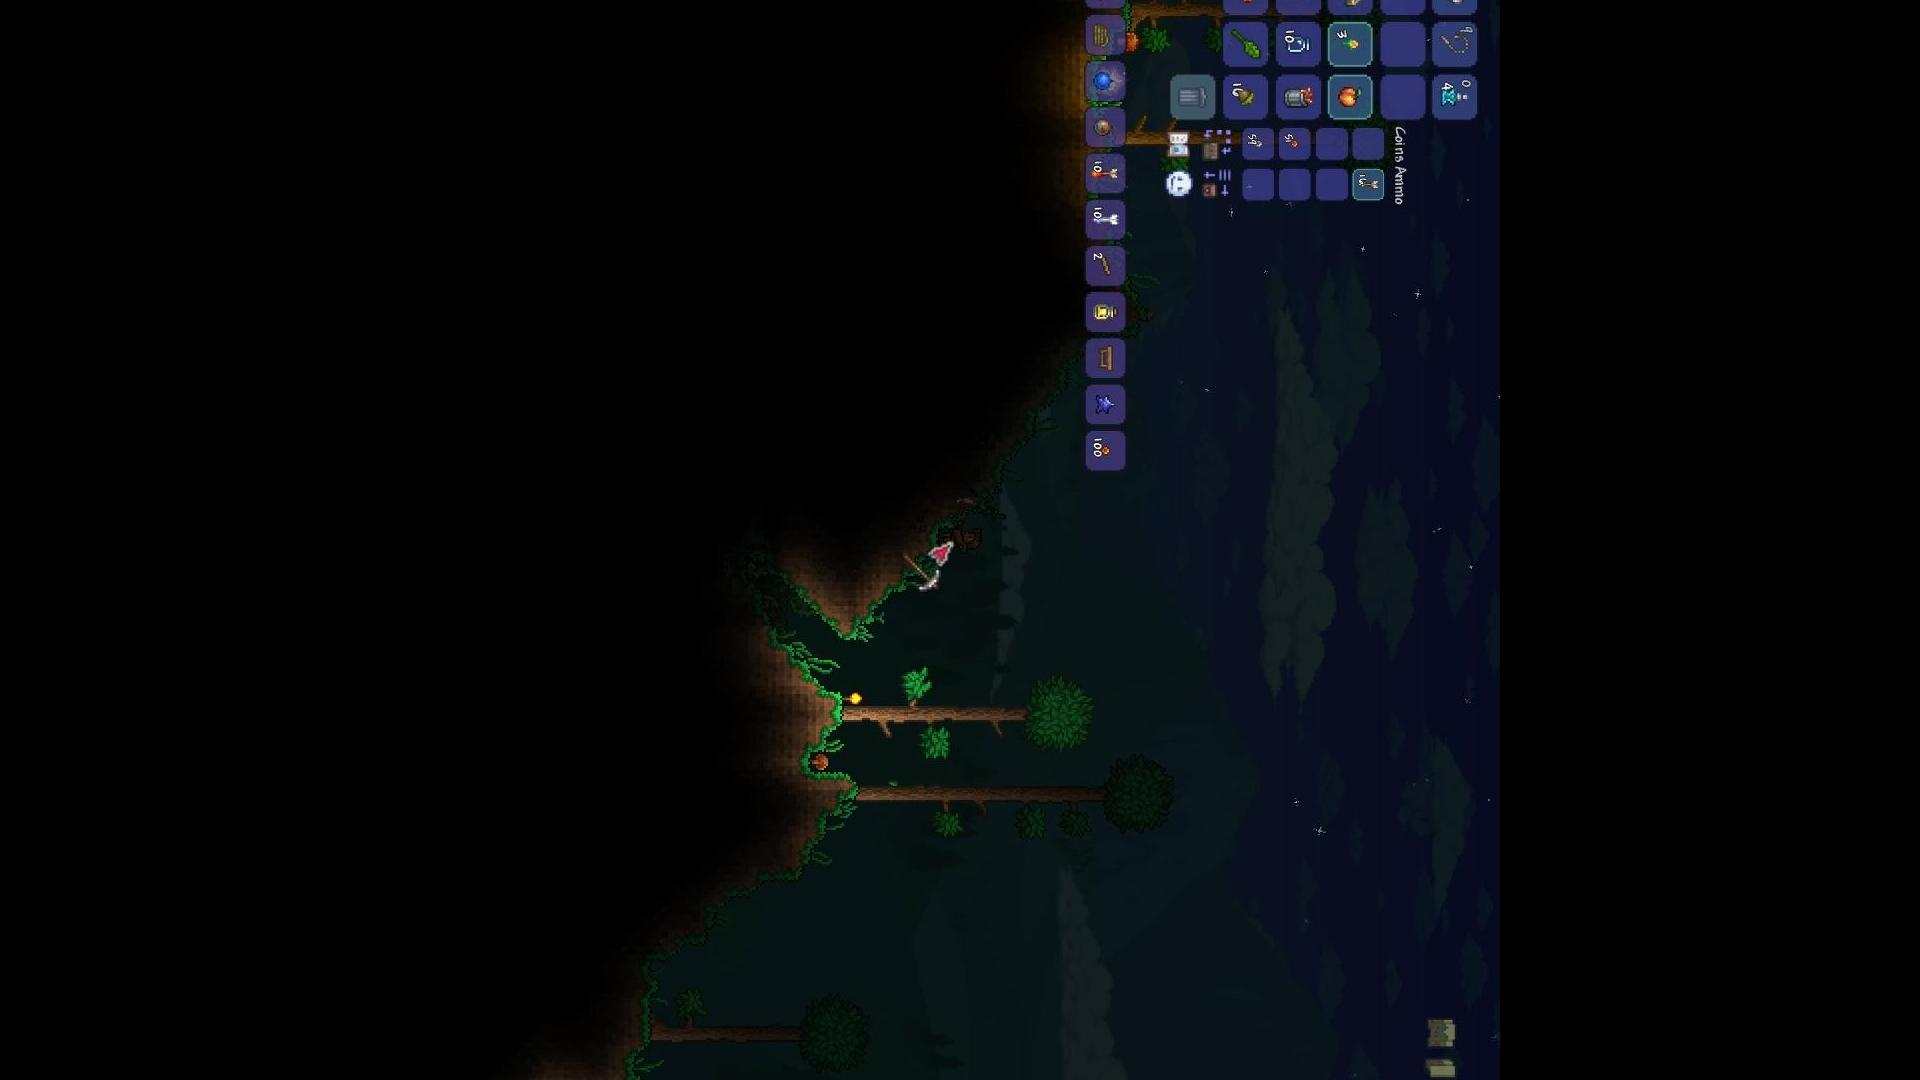dirt: (524, 960, 657, 1080), (775, 746, 860, 878), (790, 588, 899, 644), (777, 646, 839, 741)
